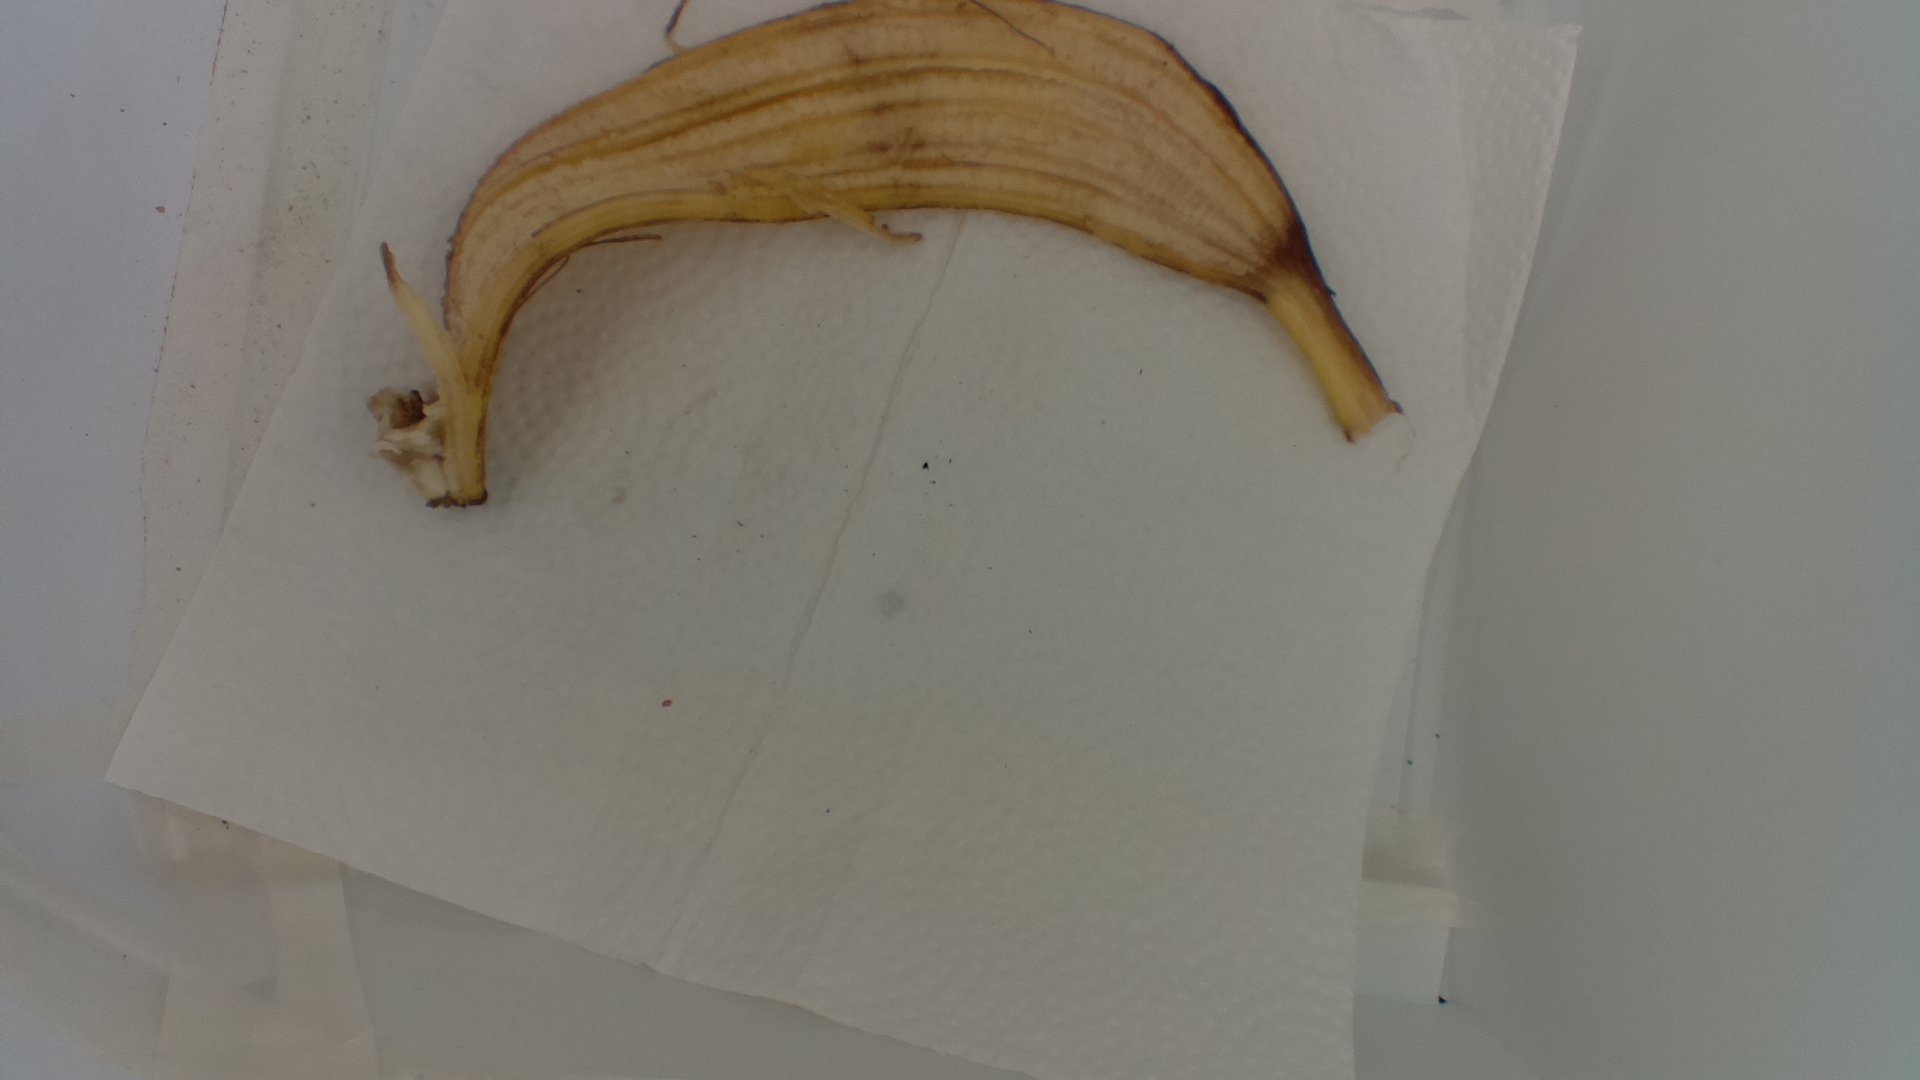fruit: (351, 4, 1406, 524)
